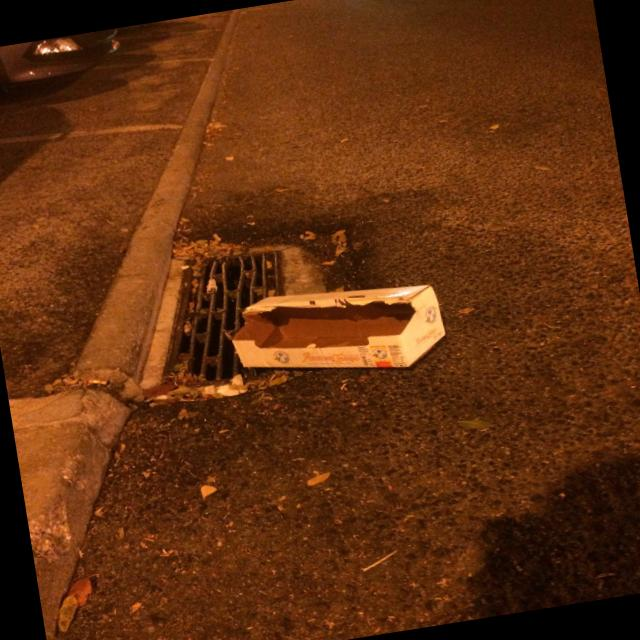less trash: (232, 285, 445, 368)
